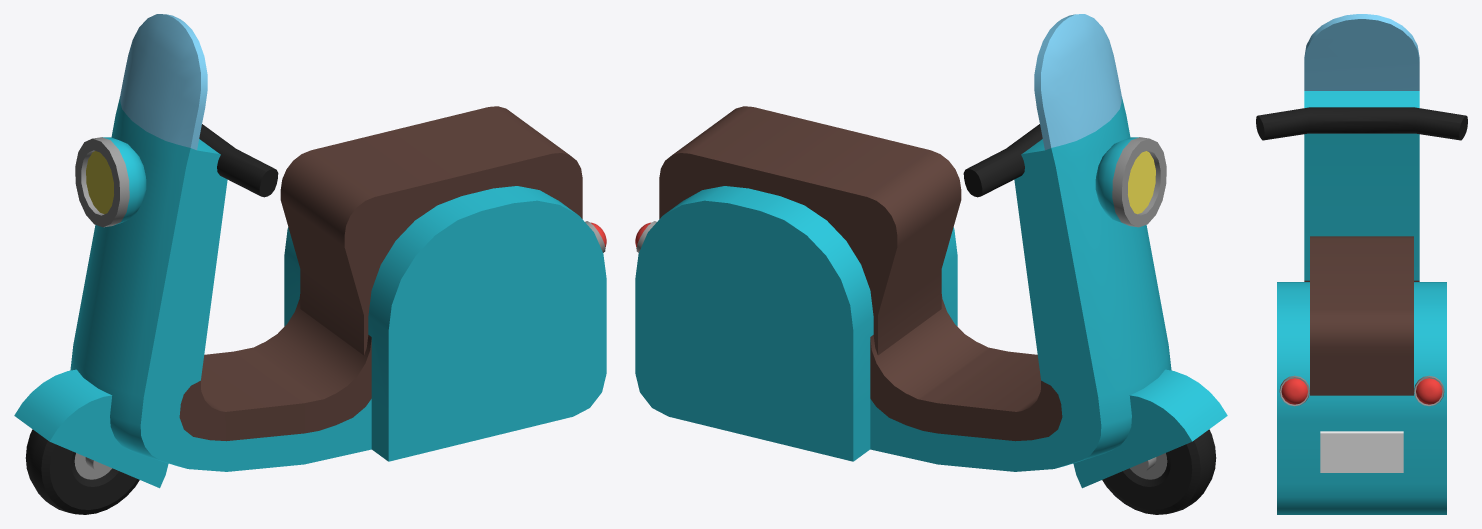
The model's file is motor_scooter.gltf.
The picture shows the model from 3 angles, left to right: view 1: azimuth 30°, elevation 25°; view 2: azimuth 150°, elevation 25°; view 3: azimuth 270°, elevation 25°; orthographic projection. The views are drawn at different scales.
Parts seen in each view (by area): view 1: Cube.734; view 2: Cube.734; view 3: Cube.734.
Boxes of the visible parts, x1,y1,x2,y2 form: Cube.734: (14,14,606,514); Cube.734: (635,14,1227,514); Cube.734: (1256,14,1467,514).
Size of the model in its own units: 2.31 by 1.95 by 0.9791.
1 material, 1 textured.
